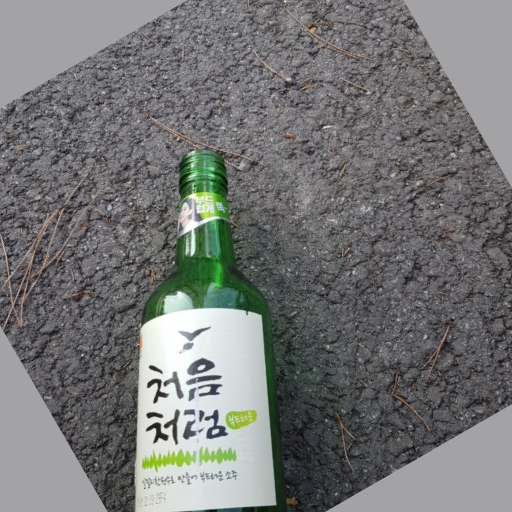Glass_0: (132, 148, 281, 512)
